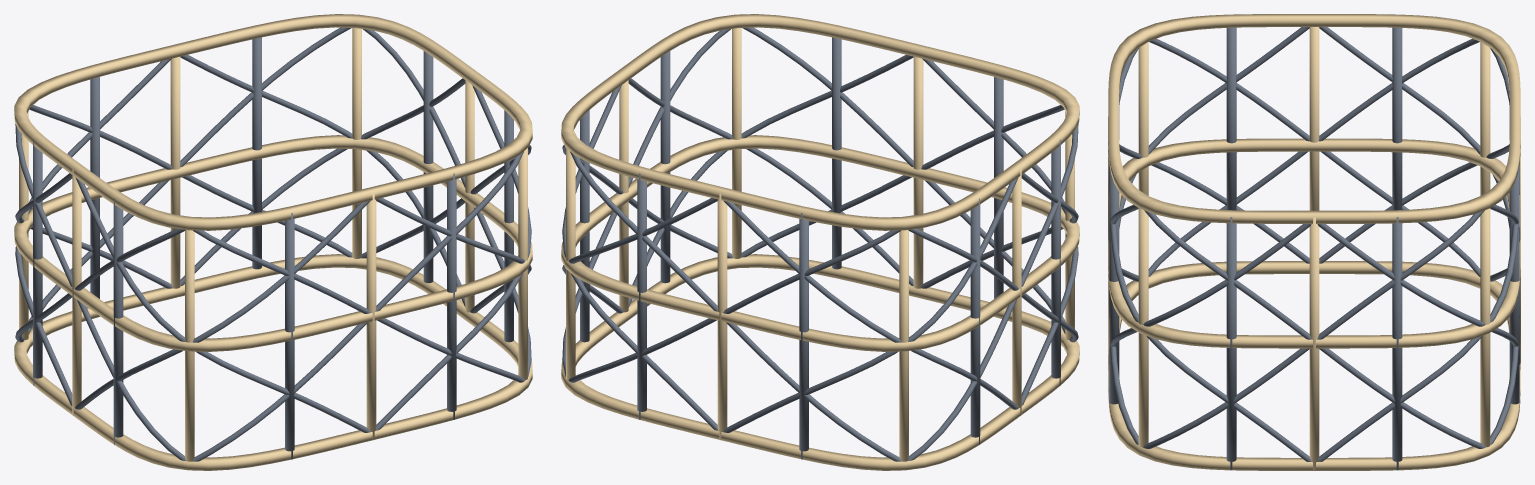
Rendered from mod_03_structural_frame.glb.
3 renders of one model, left to right at view 1: azimuth 30°, elevation 25°; view 2: azimuth 150°, elevation 25°; view 3: azimuth 270°, elevation 25°, orthographic. The views are drawn at different scales.
Parts seen in each view (by area): view 1: mod_03_structural_frame_QuantizedMesh; view 2: mod_03_structural_frame_QuantizedMesh; view 3: mod_03_structural_frame_QuantizedMesh.
Boxes of the visible parts, box(x1,y1,x2,y2) form: mod_03_structural_frame_QuantizedMesh: box(14, 14, 532, 470); mod_03_structural_frame_QuantizedMesh: box(561, 14, 1079, 470); mod_03_structural_frame_QuantizedMesh: box(1108, 14, 1520, 470).
Size of the model in its own units: 4.02 by 2.38 by 3.48.
